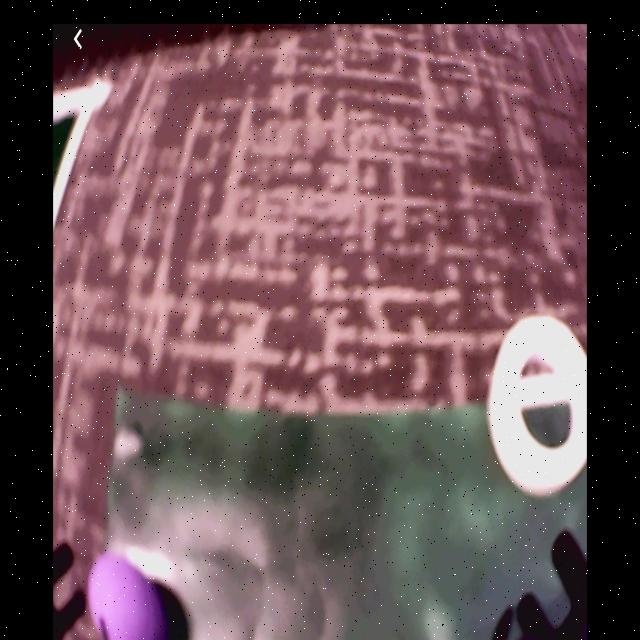ball: (89, 558, 165, 639)
